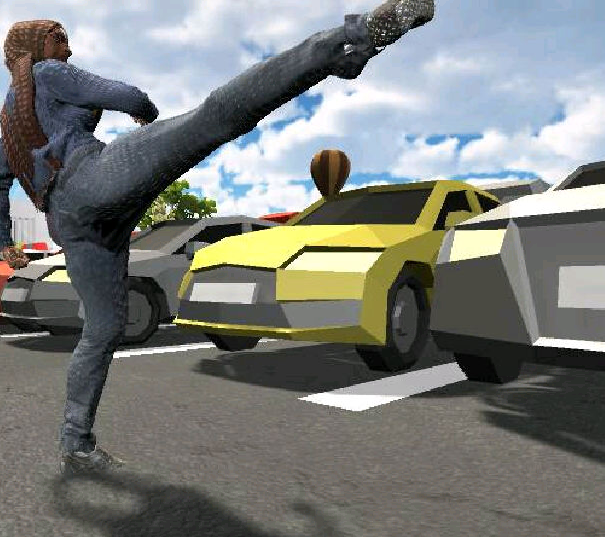turn_right: (2, 1, 435, 480)
